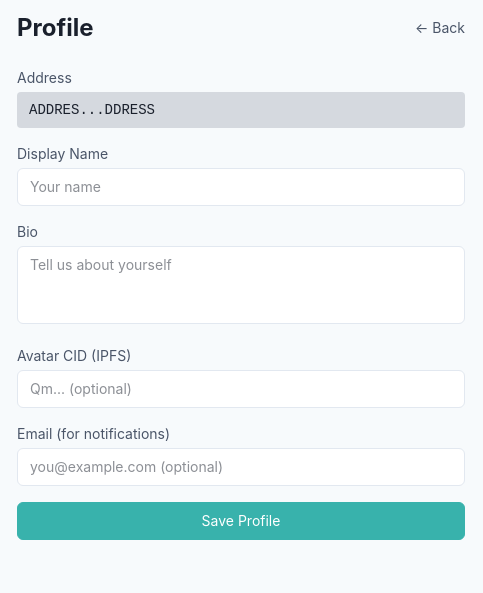
it: Profile › saves the profile and shows success
The width and height of the screenshot is (483, 593).
Type "New Name" into the field labelled "Display Name" at (241, 187), box [17, 168, 465, 206]
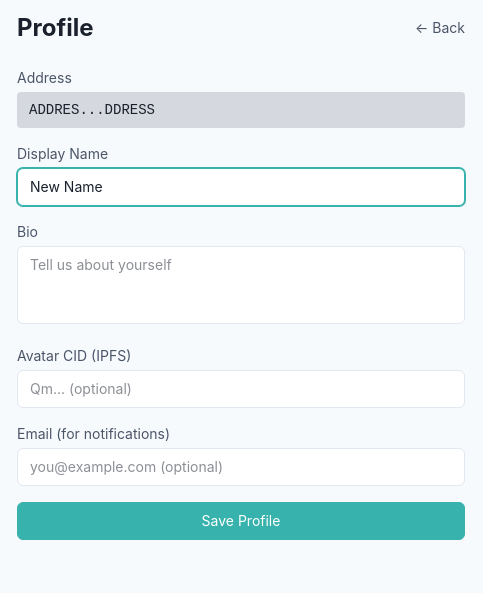
Type "A collector" into the text box labelled "Bio" at (241, 285), box [17, 246, 465, 324]
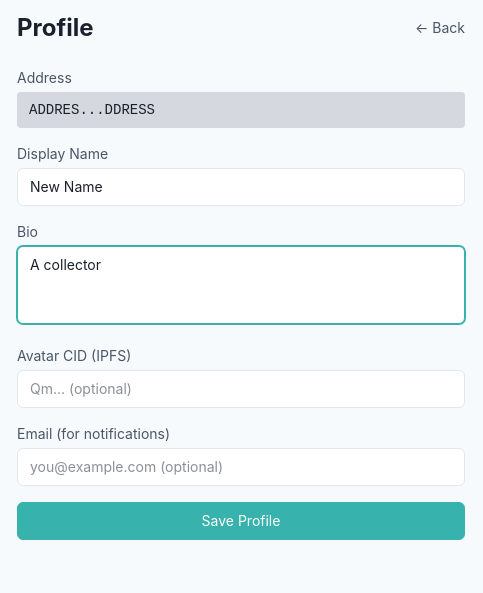
Type "QmNewAvatar" into the field labelled "Avatar CID (IPFS)" at (241, 389), box [17, 370, 465, 408]
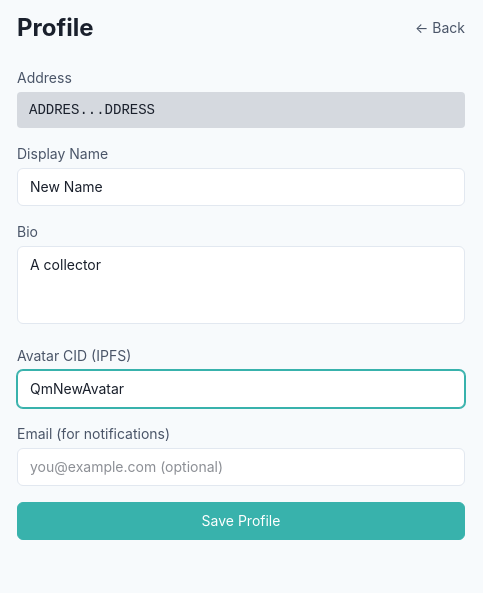
Type "new@example.com" into the field labelled "Email (for notifications)" at (241, 467), box [17, 448, 465, 486]
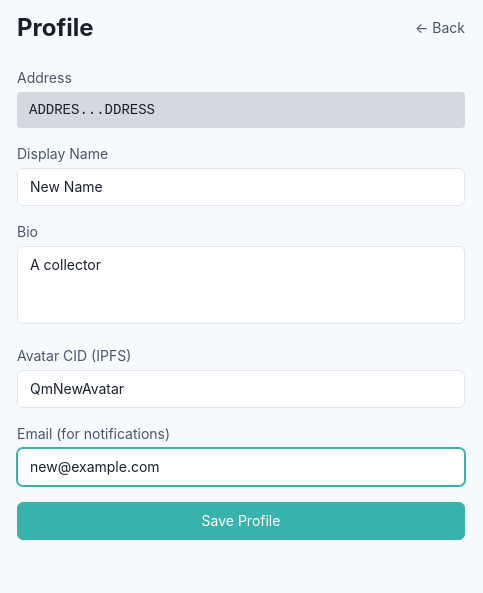
Click the button "Save Profile" at (241, 521), box [17, 502, 465, 540]
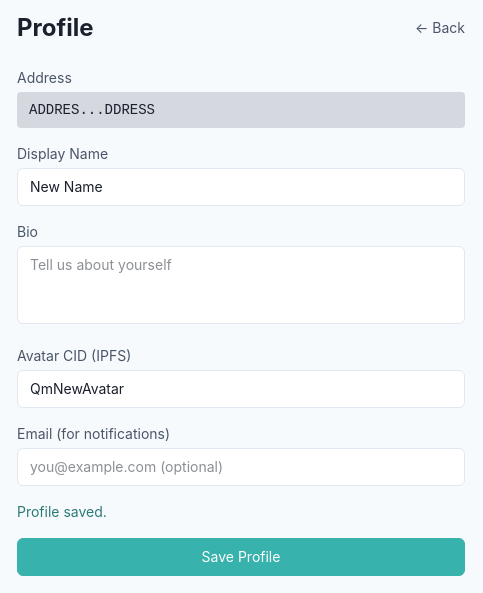
Expected: the text "Profile saved." is shown, [17, 503, 107, 520]
Expected: the text box labelled "Bio" is empty, [17, 246, 465, 324]
